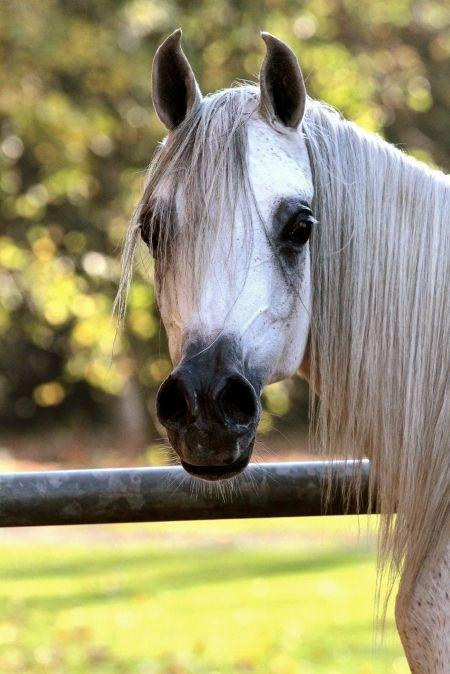horse: (110, 26, 449, 672)
